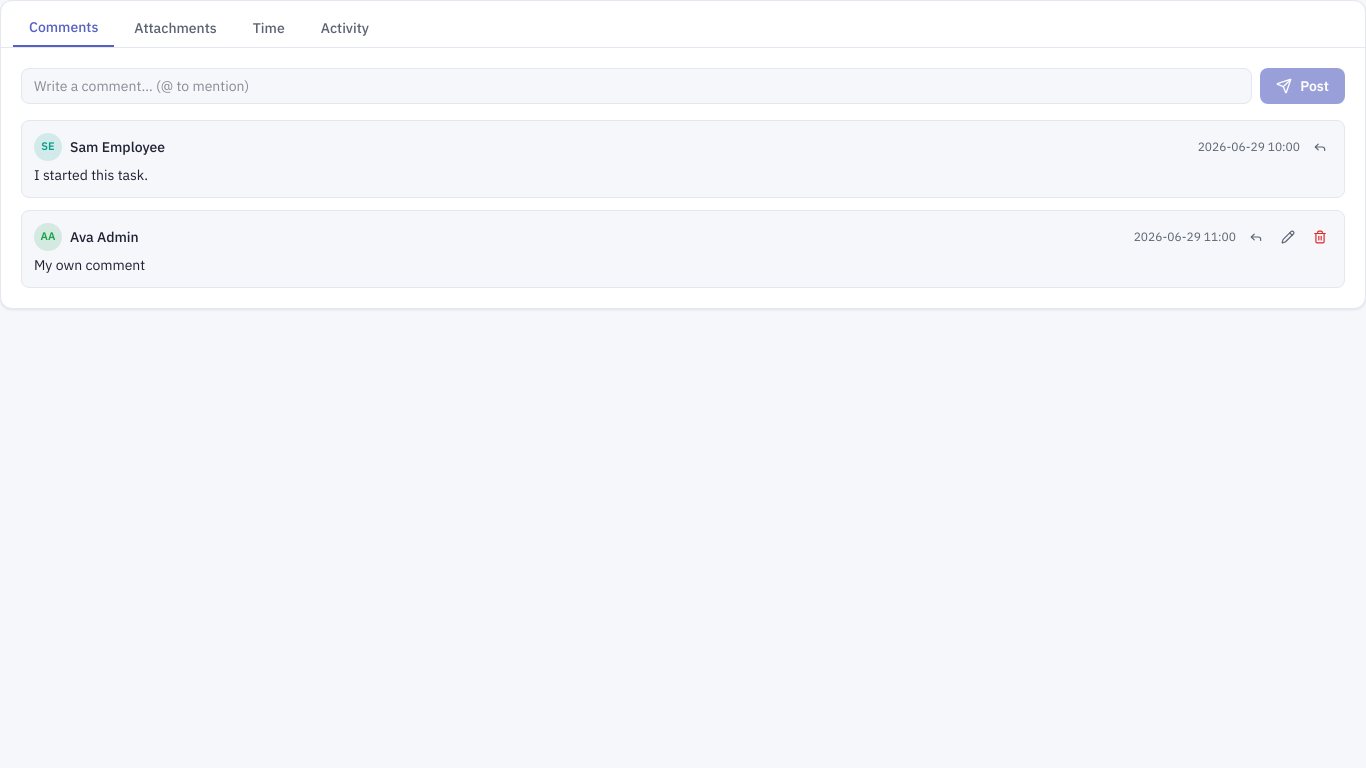
Test case: task collaboration tabs › logs time with date and hours
Click the tab "Time" at (269, 28), box x1=237 y1=9 x2=301 y2=47
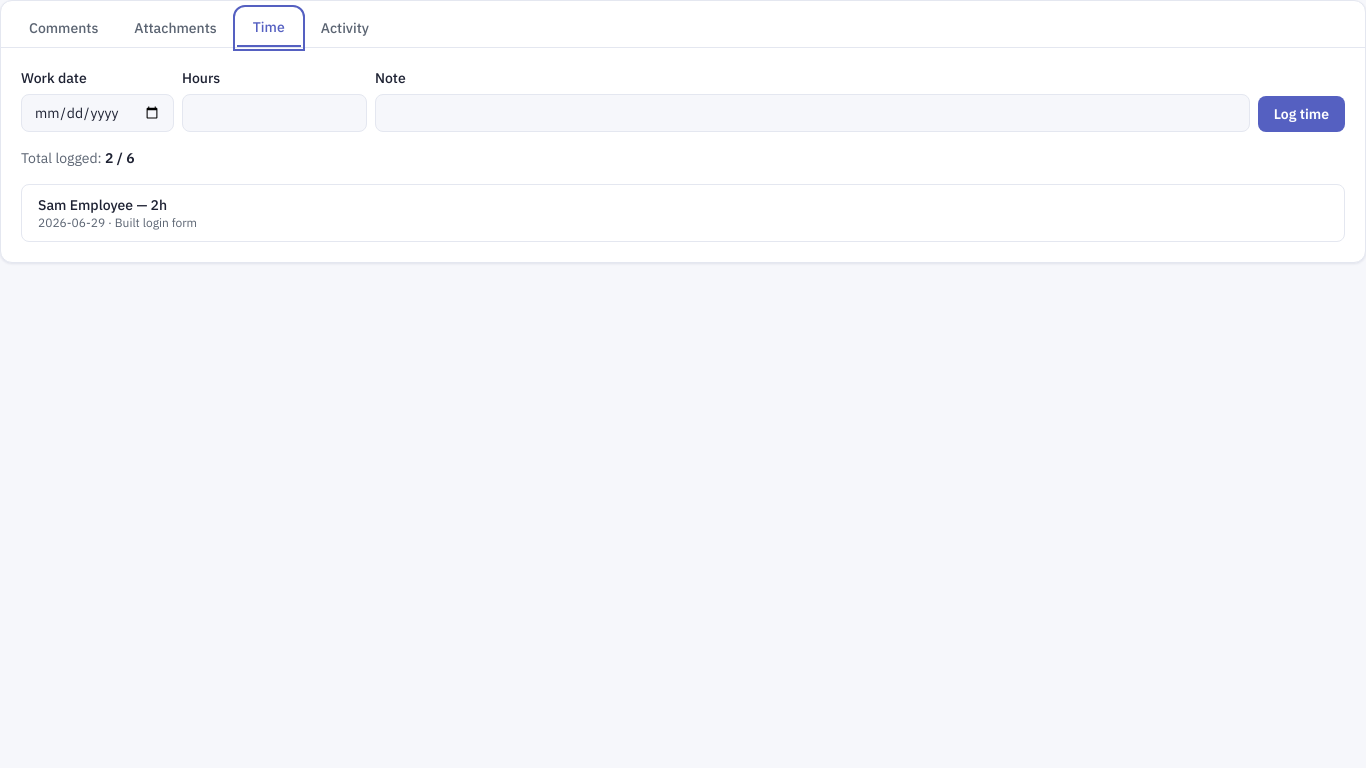
Check: the text "Sam Employee — 2h" is shown, box x1=38 y1=196 x2=167 y2=214
Check: the text "2 / 6" is shown, box x1=105 y1=149 x2=134 y2=167
Type "2026-08-16" into the date field labelled "Work date" at (98, 113), box x1=21 y1=94 x2=174 y2=132
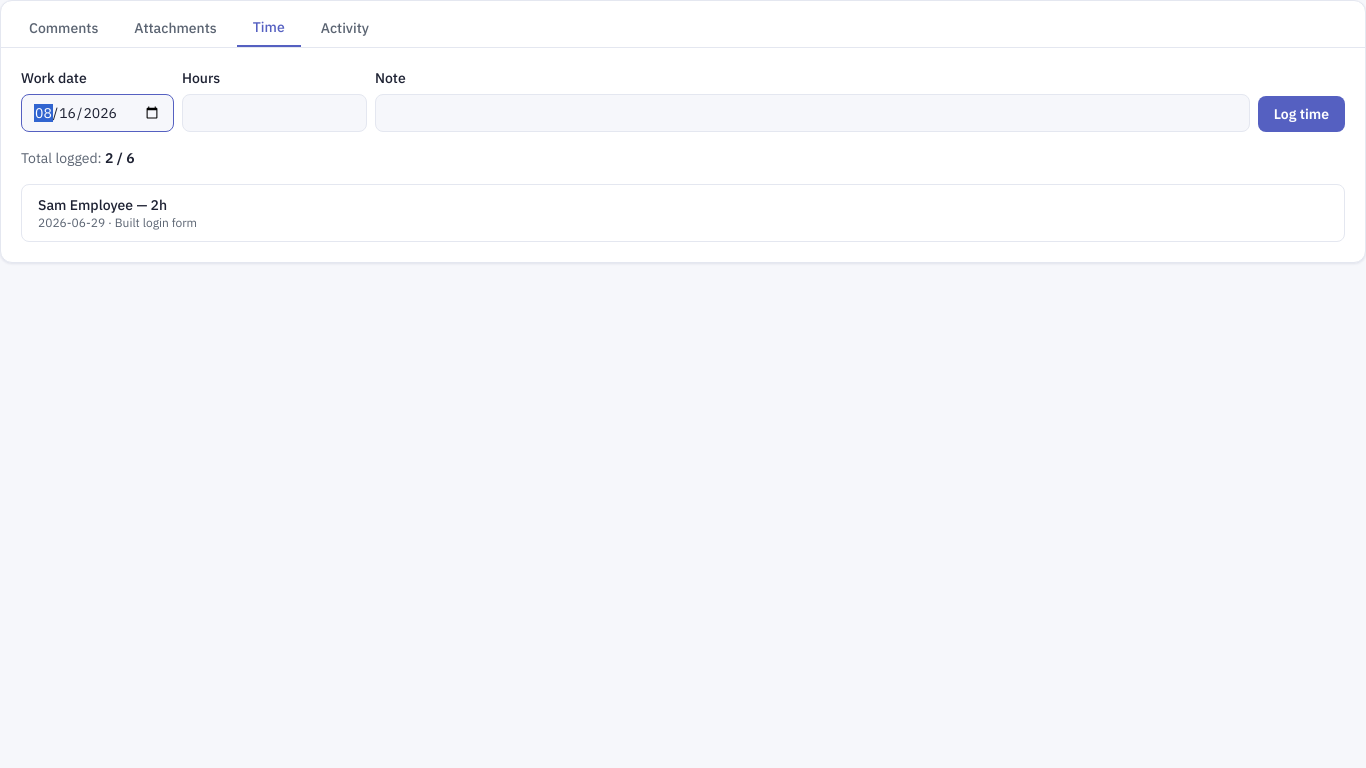
Type "3" into the number field labelled "Hours" at (274, 113), box x1=182 y1=94 x2=367 y2=132
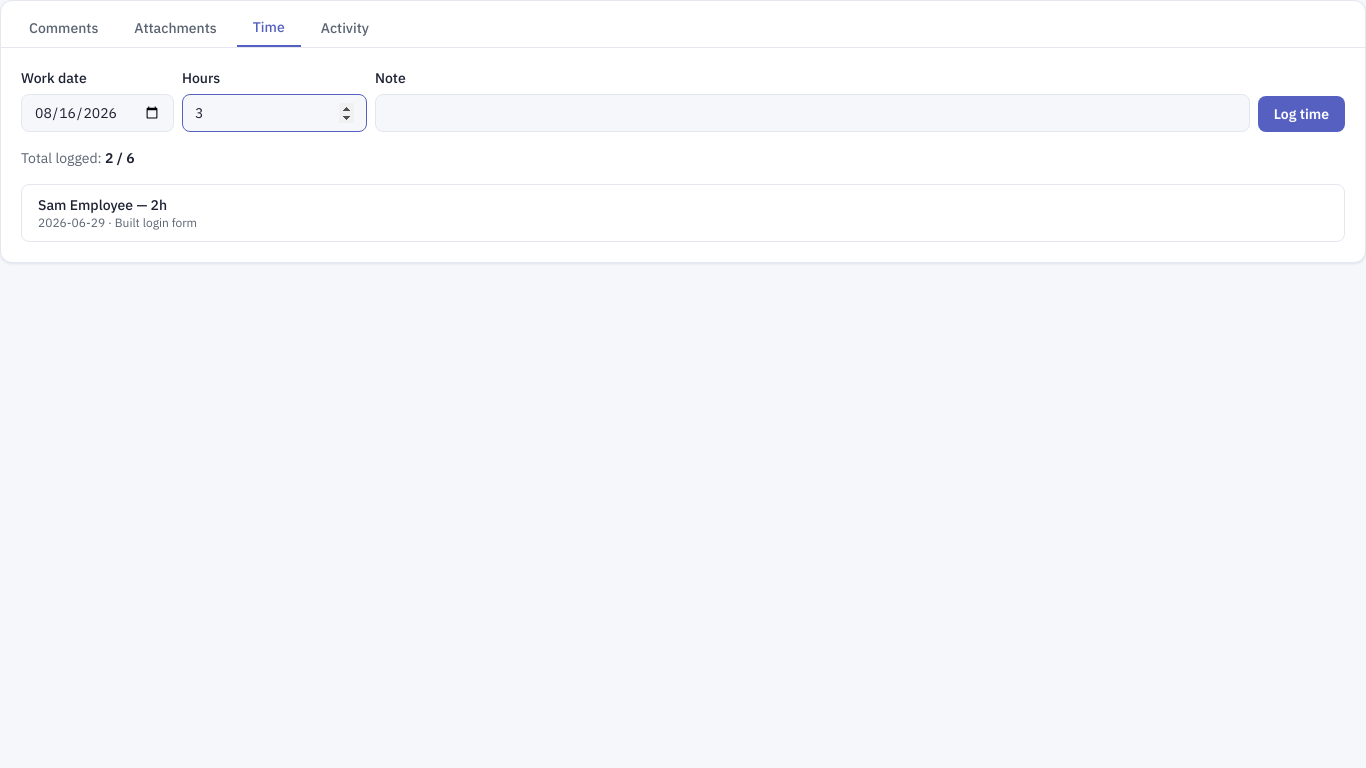
Type "API layer" into the field labelled "Note" at (812, 113), box x1=375 y1=94 x2=1250 y2=132
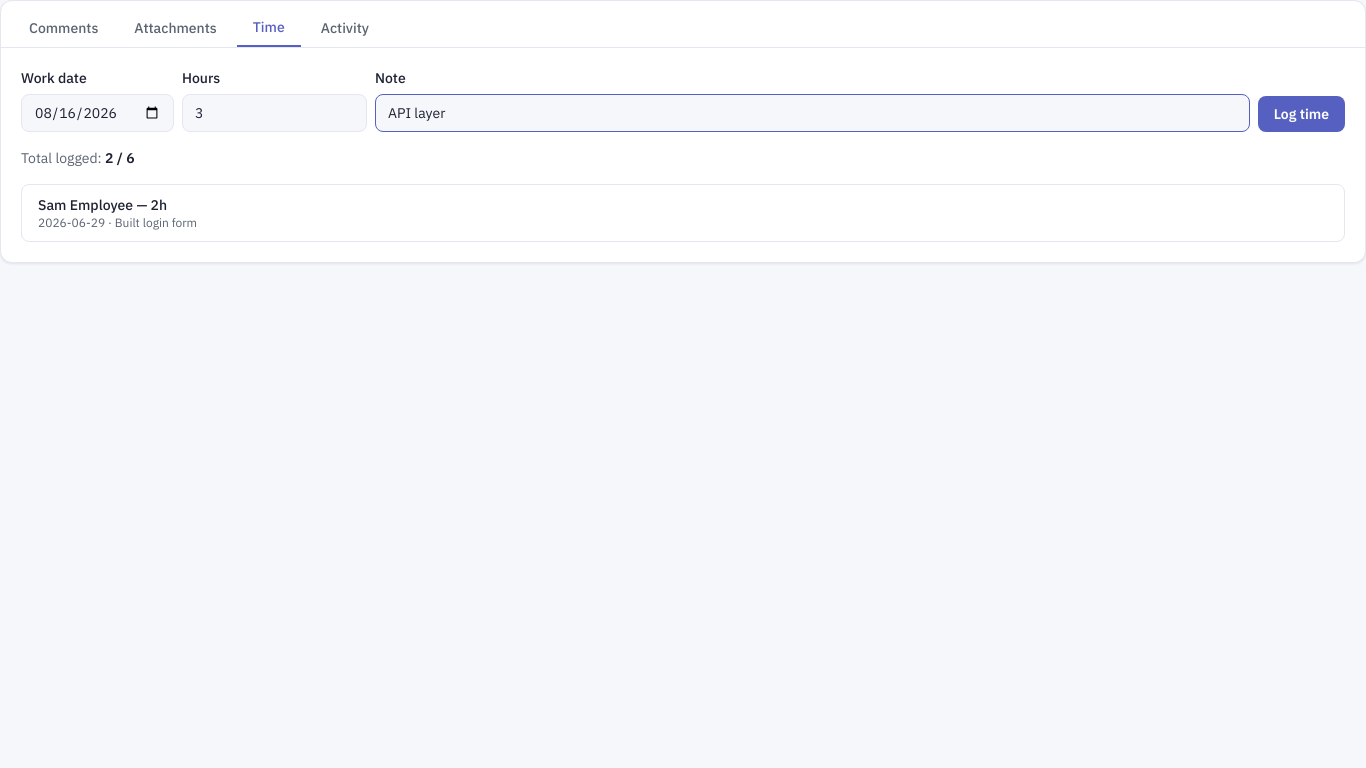
Click the button "Log time" at (1301, 114), box x1=1258 y1=96 x2=1345 y2=132
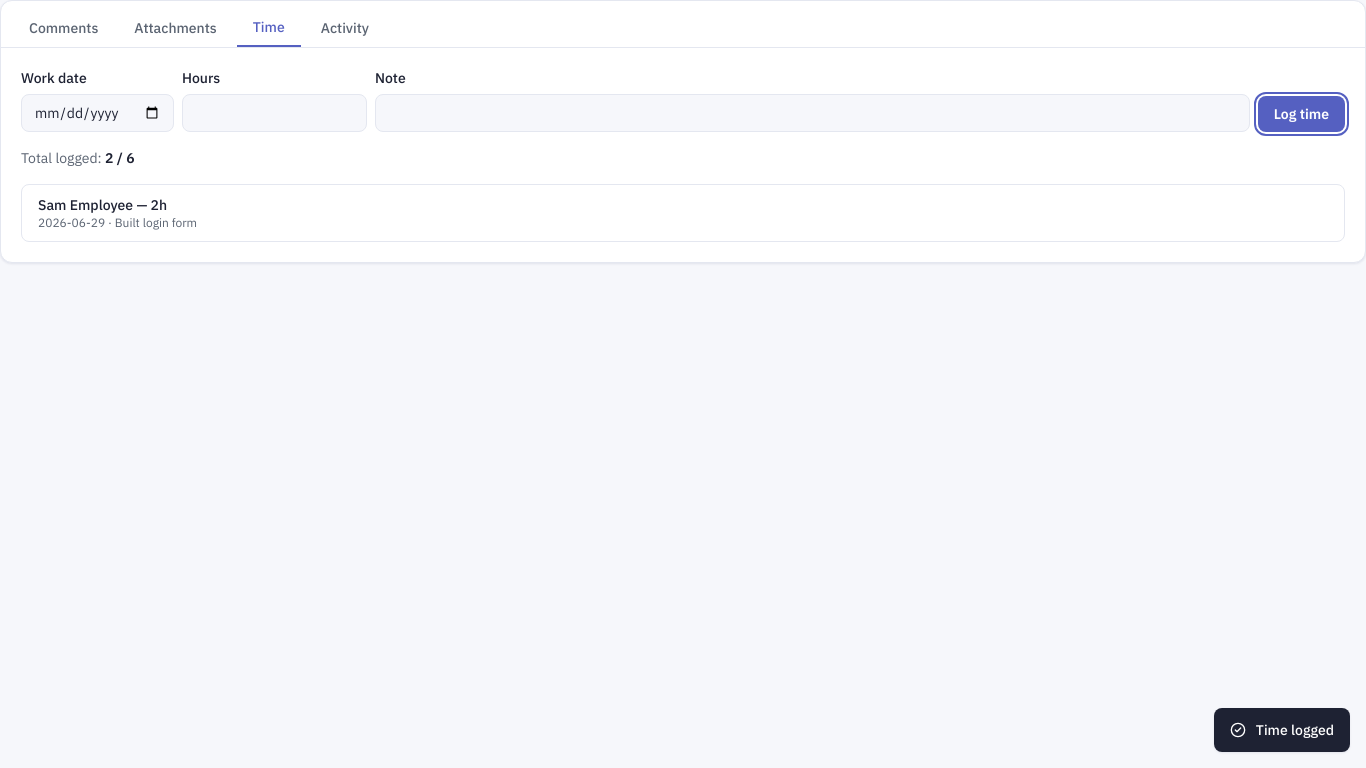
Check: the text "Time logged" is shown, box x1=1214 y1=708 x2=1350 y2=752
